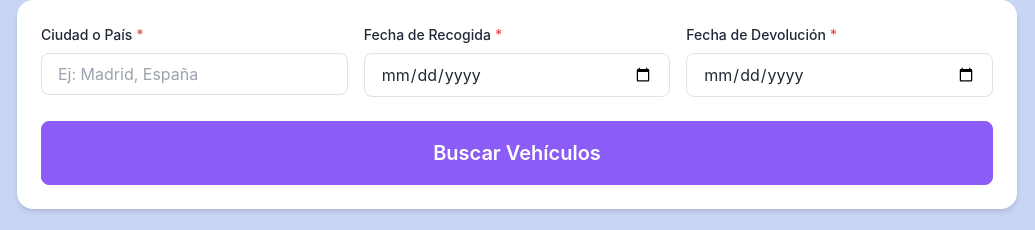
SearchForm › debe permitir seleccionar una sugerencia
Type "Mad" into the field labelled "Ciudad o País*". click: (194, 74)
box: x1=41 y1=53 x2=348 y2=95
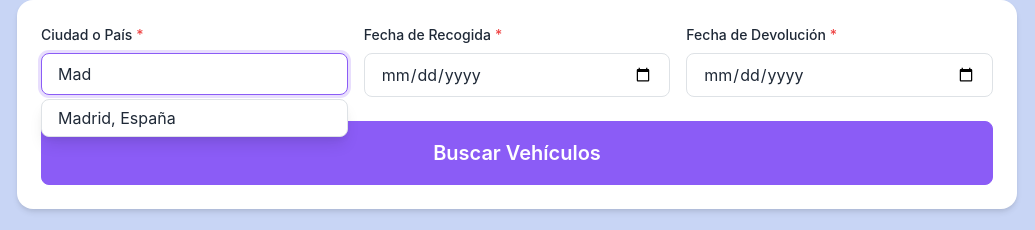
expect the option "Madrid, España" is shown: met
// Hacer clic en la primera sugerencia
Click the option "Madrid, España". click: (117, 118)
box: x1=42 y1=100 x2=347 y2=136
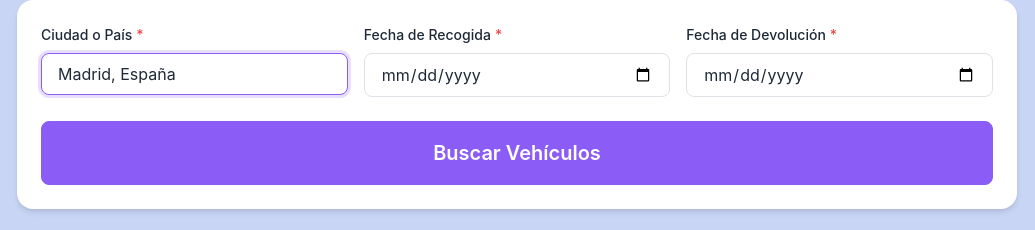
expect the field labelled "Ciudad o País*" holds "Madrid, España": met, box x1=41 y1=53 x2=348 y2=95
